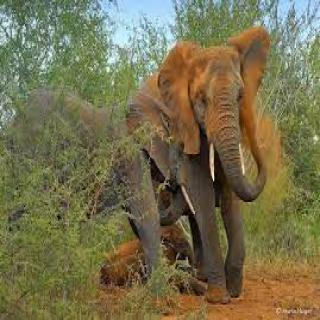Elephant: (146, 27, 280, 303)
